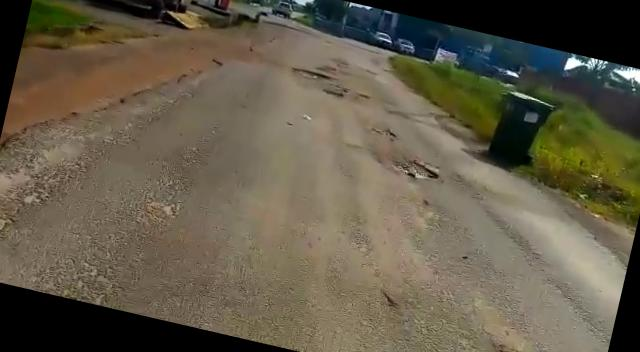pothole: (378, 151, 446, 187), (289, 63, 333, 82), (320, 89, 346, 100)
